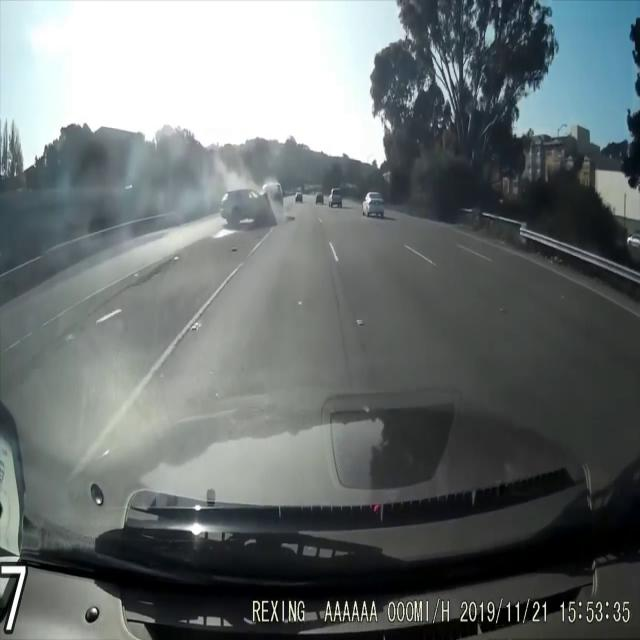accident: (223, 178, 288, 233)
